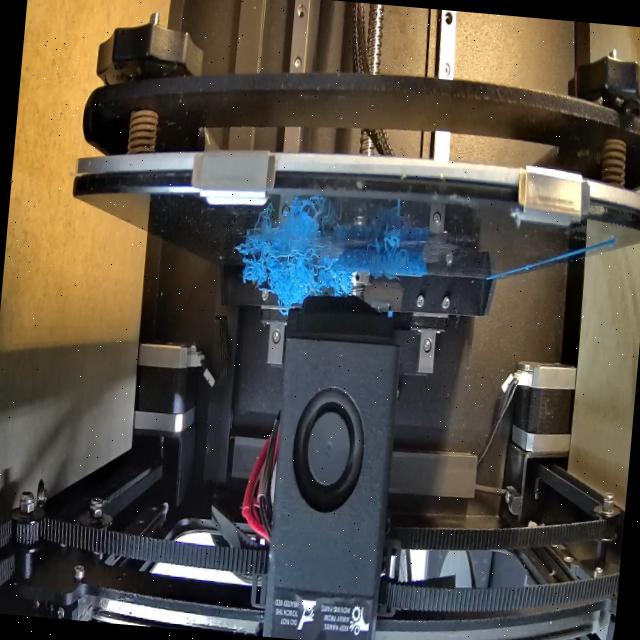spaghetti: (235, 242, 352, 311), (361, 230, 412, 284)
